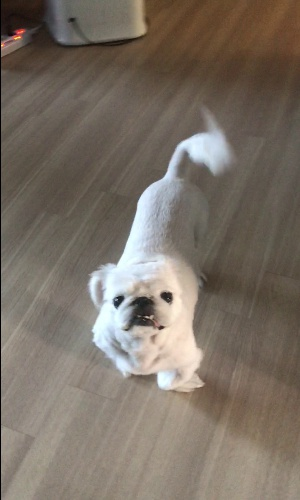ddubi: (83, 103, 239, 396)
